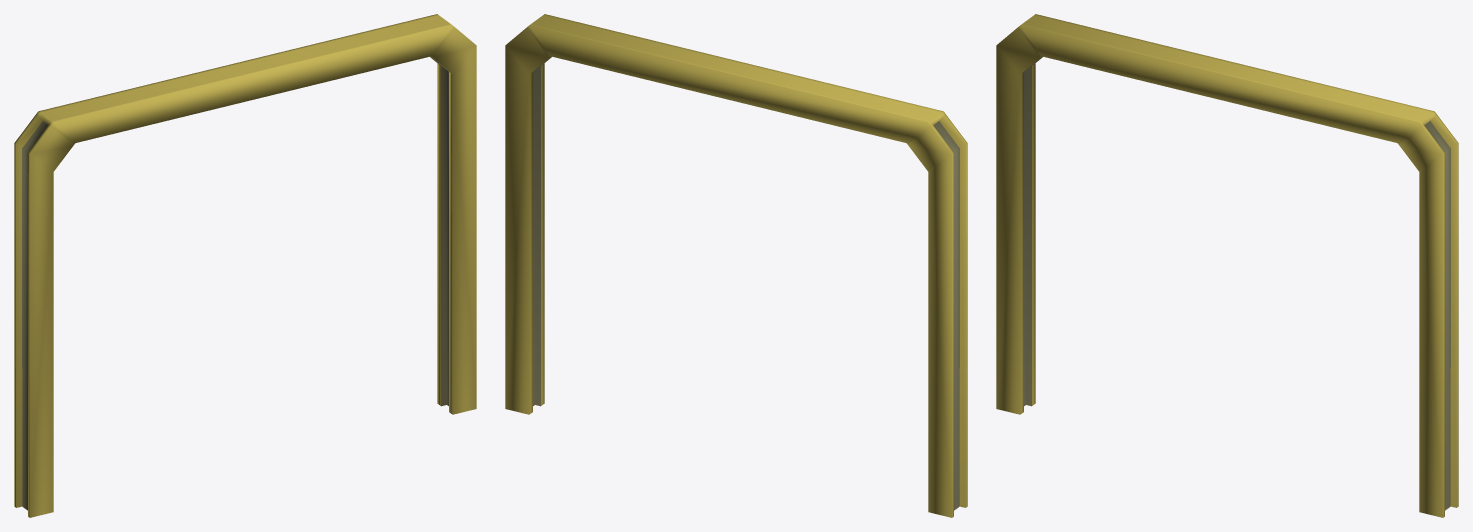
File: DoorFrame_Default.fbx
3 renders of one model, left to right at view 1: azimuth 30°, elevation 25°; view 2: azimuth 150°, elevation 25°; view 3: azimuth 330°, elevation 25°, orthographic.
Visible parts, largest first — view 1: DoorFrame_Default; view 2: DoorFrame_Default; view 3: DoorFrame_Default.
Part boxes in pixels (x1,y1,x2,y2): DoorFrame_Default: [14, 14, 476, 517]; DoorFrame_Default: [505, 14, 967, 517]; DoorFrame_Default: [996, 14, 1458, 517].
Size of the model in its own units: 300 by 250 by 18.
